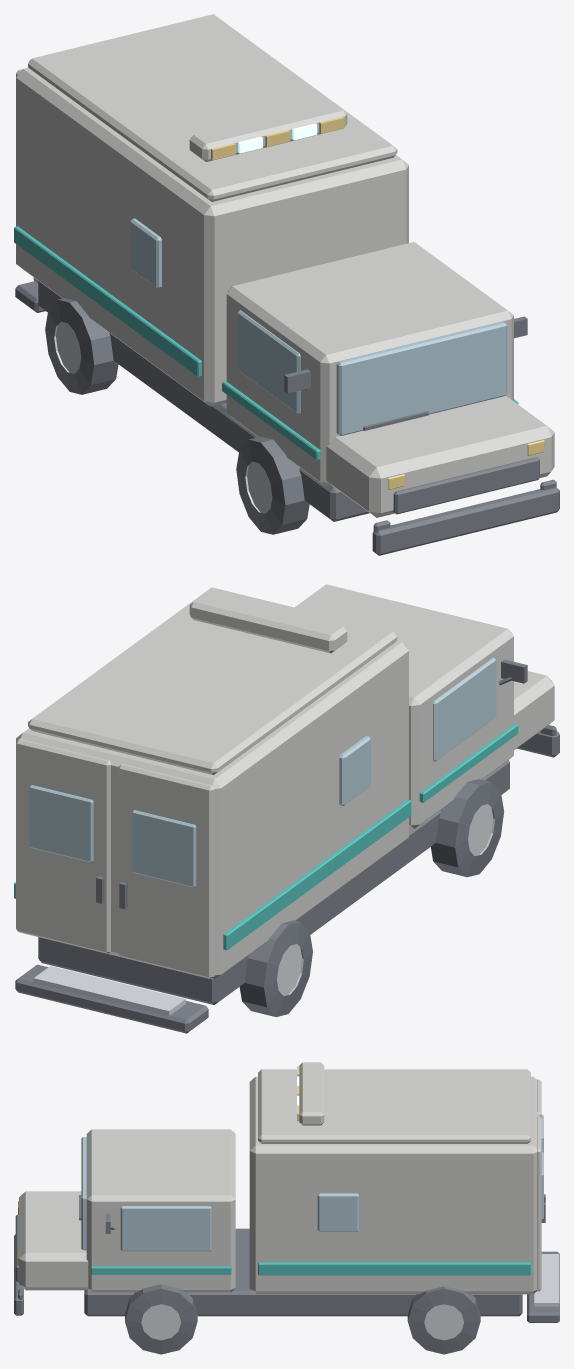
File: medical-23651.glb
3 views of the same model, one above another, from view 1: azimuth 30°, elevation 25°; view 2: azimuth 150°, elevation 25°; view 3: azimuth 270°, elevation 25° (orthographic). The views are drawn at different scales.
Parts seen in each view (by area): view 1: ambulance, wheel-front-left, wheel-rear-left, wheel-front-left-steel, wheel-rear-left-steel; view 2: ambulance, door-rear-left, door-rear-right, wheel-front-left, door-rear-right-glass, door-rear-left-glass, wheel-rear-left, wheel-front-left-steel, wheel-rear-left-steel; view 3: ambulance, wheel-front-right, wheel-rear-right, wheel-front-right-steel, wheel-rear-right-steel, door-rear-right.
Part boxes in pixels (x1=…): ambulance: x1=14, y1=14, x2=559, y2=555; wheel-front-left: x1=236, y1=436, x2=309, y2=534; wheel-rear-left: x1=45, y1=298, x2=118, y2=394; wheel-front-left-steel: x1=245, y1=461, x2=272, y2=513; wheel-rear-left-steel: x1=54, y1=321, x2=81, y2=373; ambulance: x1=14, y1=584, x2=559, y2=1033; door-rear-left: x1=118, y1=764, x2=214, y2=978; door-rear-right: x1=16, y1=738, x2=110, y2=953; wheel-front-left: x1=431, y1=779, x2=504, y2=877; door-rear-right-glass: x1=29, y1=785, x2=93, y2=862; door-rear-left-glass: x1=132, y1=810, x2=196, y2=887; wheel-rear-left: x1=239, y1=920, x2=312, y2=1016; wheel-front-left-steel: x1=468, y1=804, x2=494, y2=855; wheel-rear-left-steel: x1=277, y1=944, x2=303, y2=995; ambulance: x1=14, y1=1062, x2=559, y2=1322; wheel-front-right: x1=125, y1=1284, x2=197, y2=1354; wheel-rear-right: x1=407, y1=1286, x2=480, y2=1354; wheel-front-right-steel: x1=141, y1=1304, x2=181, y2=1340; wheel-rear-right-steel: x1=424, y1=1304, x2=463, y2=1340; door-rear-right: x1=537, y1=1116, x2=541, y2=1291.
Size of the model in its own units: 2.48 by 3.04 by 6.6.
